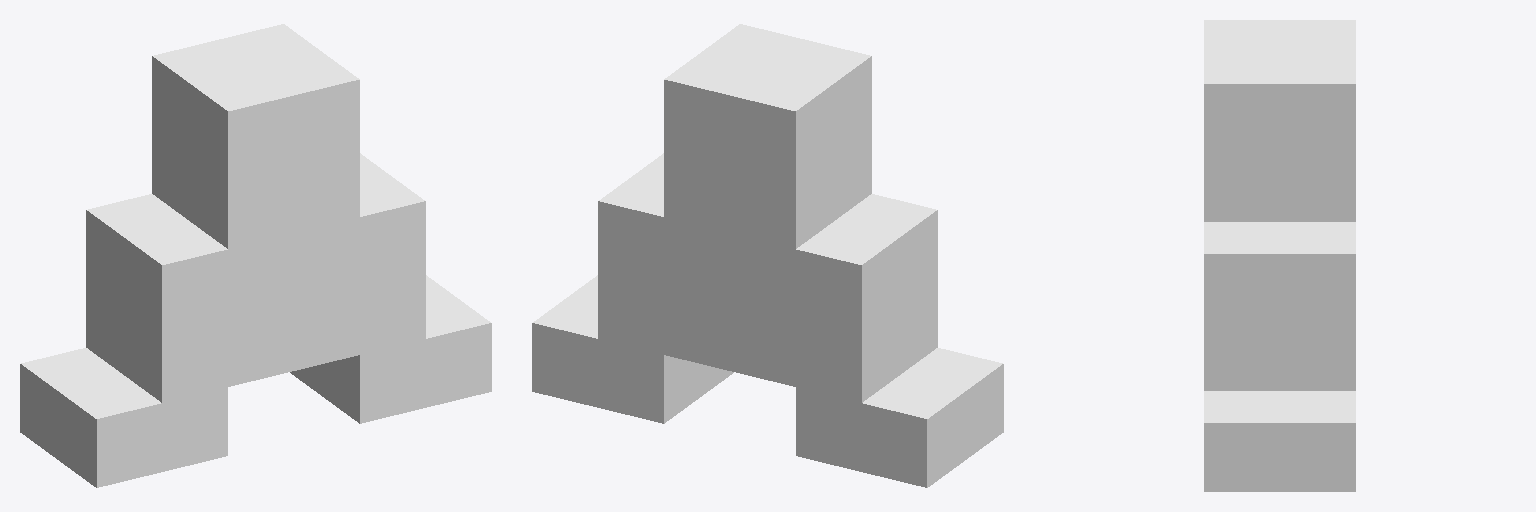
The robot description file, URDF, robot "box":
<?xml version="1.0" ?>
<robot name="box">
  <link name="base_link">
    <inertial>
      <origin rpy="0 0 0" xyz="0 0 0"/>
      <mass value="10"/>
      <inertia ixx="1.0" ixy="0.0" ixz="0.0" iyy="1.0" iyz="0.0" izz="1.0"/>
    </inertial>
    <visual>
      <origin rpy="0 0 0" xyz="0 0 0"/>
      <geometry>
        <mesh filename="box-T2F_N3F_V3F.obj" scale="0.5 0.5 0.5"/>
      </geometry>
      <material name="white">
        <color rgba="1 1 1 1"/>
      </material>
    </visual>
    <collision>
      <origin rpy="0 0 0" xyz="0 0 0"/>
      <geometry>
        <mesh filename="box-T2F_N3F_V3F.obj" scale="1 1 1"/>
      </geometry>
    </collision>
  </link>

  <link name="pelvis">
    <inertial>
      <origin rpy="0 0 0" xyz="0 0 0"/>
      <mass value="10"/>
      <inertia ixx="1.0" ixy="0.0" ixz="0.0" iyy="1.0" iyz="0.0" izz="1.0"/>
    </inertial>
    <visual>
      <origin rpy="0 0 0" xyz="0 0 0"/>
      <geometry>
        <mesh filename="box-T2F_N3F_V3F.obj" scale="1 0.5 0.5"/>
      </geometry>
      <material name="white">
        <color rgba="1 1 1 1"/>
      </material>
    </visual>
    <collision>
      <origin rpy="0 0 0" xyz="0 0 0"/>
      <geometry>
        <mesh filename="box-T2F_N3F_V3F.obj" scale="1 0.5 0.5"/>
      </geometry>
    </collision>
  </link>
  <joint name="base_to_pelvis" type="fixed">
    <parent link="base_link"/>
    <child link="pelvis"/>
    <origin xyz="0 0 -1"/>
  </joint>

  <link name="right_leg_top">
    <inertial>
      <origin rpy="0 0 0" xyz="0 0 -0.25"/>
      <mass value="10"/>
      <inertia ixx="1.0" ixy="0.0" ixz="0.0" iyy="1.0" iyz="0.0" izz="1.0"/>
    </inertial>
    <visual>
      <origin rpy="0 0 0" xyz="0 0 -0.25"/>
      <geometry>
        <mesh filename="box-T2F_N3F_V3F.obj" scale="0.5 0.5 0.25"/>
      </geometry>
      <material name="white">
        <color rgba="1 1 1 1"/>
      </material>
    </visual>
    <collision>
      <origin rpy="0 0 0" xyz="0 0 -0.25"/>
      <geometry>
        <mesh filename="box-T2F_N3F_V3F.obj" scale="0.5 0.5 0.25"/>
      </geometry>
    </collision>
  </link>
  <joint name="pelvis_to_right_leg_top" type="revolute">
    <axis xyz="0 1 0"/>
    <limit effort="1000.0" lower="-0.2" upper="1.57" velocity="1000"/>
    <origin rpy="0 0 0" xyz="-1 0 -0.5"/>
    <parent link="pelvis"/>
    <child link="right_leg_top"/>
  </joint>

  <link name="left_leg_top">
    <inertial>
      <origin rpy="0 0 0" xyz="0 0 -0.25"/>
      <mass value="10"/>
      <inertia ixx="1.0" ixy="0.0" ixz="0.0" iyy="1.0" iyz="0.0" izz="1.0"/>
    </inertial>
    <visual>
      <origin rpy="0 0 0" xyz="0 0 -0.25"/>
      <geometry>
        <mesh filename="box-T2F_N3F_V3F.obj" scale="0.5 0.5 0.25"/>
      </geometry>
      <material name="white">
        <color rgba="1 1 1 1"/>
      </material>
    </visual>
    <collision>
      <origin rpy="0 0 0" xyz="0 0 -0.25"/>
      <geometry>
        <mesh filename="box-T2F_N3F_V3F.obj" scale="0.5 0.5 0.25"/>
      </geometry>
    </collision>
  </link>
  <joint name="pelvis_to_left_leg_top" type="revolute">
    <axis xyz="0 1 0"/>
    <limit effort="1000.0" lower="-1.57" upper="0.2" velocity="1000"/>
    <origin rpy="0 0 0" xyz="1 0 -0.5"/>
    <parent link="pelvis"/>
    <child link="left_leg_top"/>
  </joint>
</robot>

--- Facts derived from the render (not from the file) ---
3 views of the same robot in one strip: view 1: azimuth 30°, elevation 25°; view 2: azimuth 150°, elevation 25°; view 3: azimuth 270°, elevation 25° (orthographic).
Robot: box — 4 links, 3 joints (2 revolute, 1 fixed); root link base_link; default pose: every joint at zero.
Visible links, largest first — view 1: pelvis, base_link, right_leg_top, left_leg_top; view 2: pelvis, base_link, right_leg_top, left_leg_top; view 3: base_link, pelvis, left_leg_top.
Link boxes in pixels (x1,y1,x2,y2): pelvis: (86,153,425,402); base_link: (152,24,359,248); right_leg_top: (20,348,227,487); left_leg_top: (290,275,491,423); pelvis: (598,153,937,402); base_link: (664,24,871,248); right_leg_top: (796,348,1003,487); left_leg_top: (532,275,733,423); base_link: (1204,20,1355,221); pelvis: (1204,222,1355,390); left_leg_top: (1204,391,1355,491).
Bounding box of the posed robot: 3 × 1 × 2.5 m (x, y, z).
4 mesh visuals loaded from 1 distinct referenced files (1 OBJ).